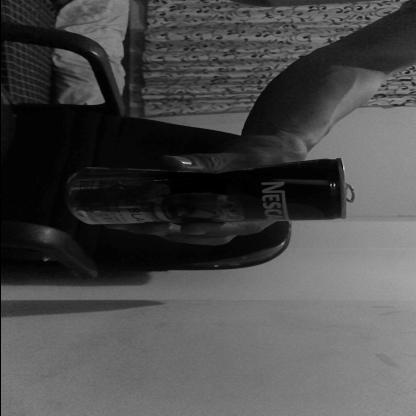alumunium_can: (65, 155, 360, 225)
